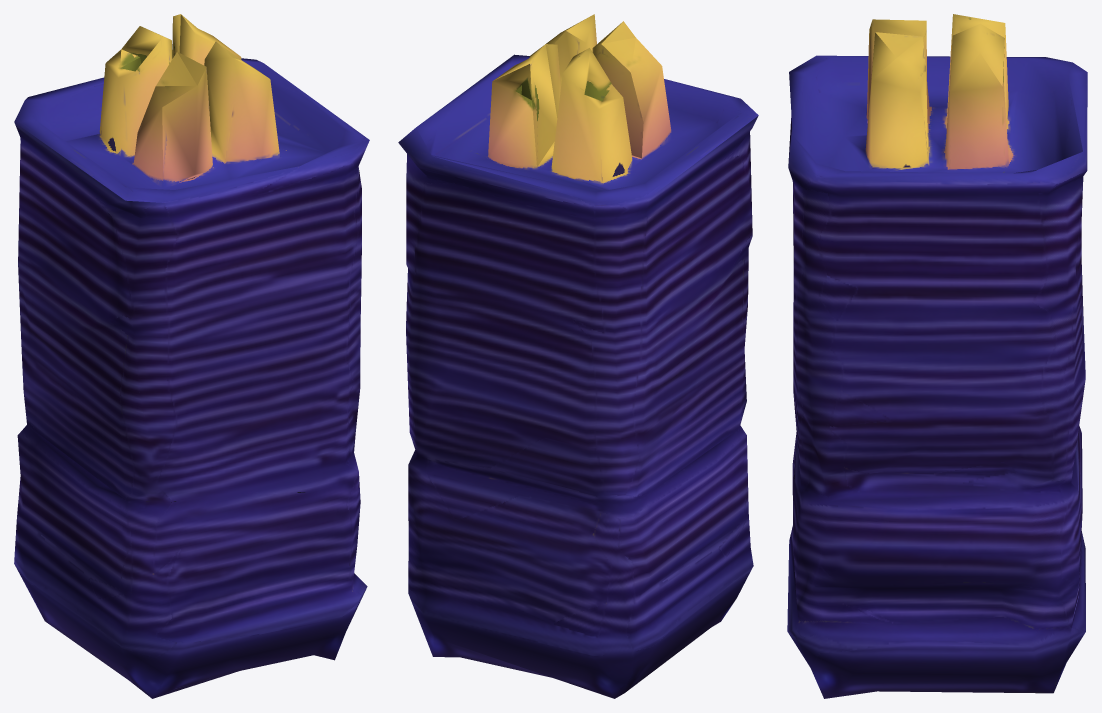
File: lunch-tray-stack.glb
The picture shows the model from 3 angles, left to right: view 1: azimuth 30°, elevation 25°; view 2: azimuth 150°, elevation 25°; view 3: azimuth 270°, elevation 25°; orthographic projection. The views are drawn at different scales.
Visible parts, largest first — view 1: geometry_0.001; view 2: geometry_0.001; view 3: geometry_0.001.
Boxes of the visible parts, x1,y1,x2,y2 form: geometry_0.001: (14, 14, 369, 698); geometry_0.001: (398, 14, 758, 698); geometry_0.001: (787, 14, 1087, 698).
Bounding box in the file's own units: 0.4264 × 1 × 0.4284.
Materials: 1 (1 with a texture image).
